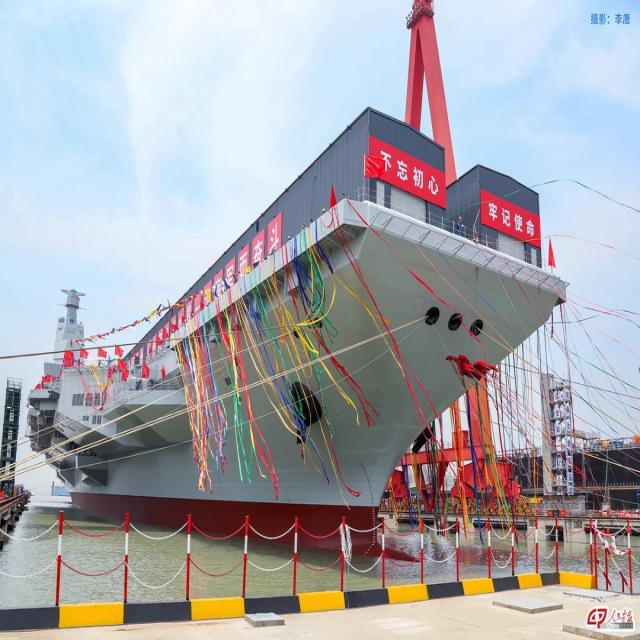Aircraft-Carrier-Fujian-Class-CHI: (22, 1, 567, 564)
